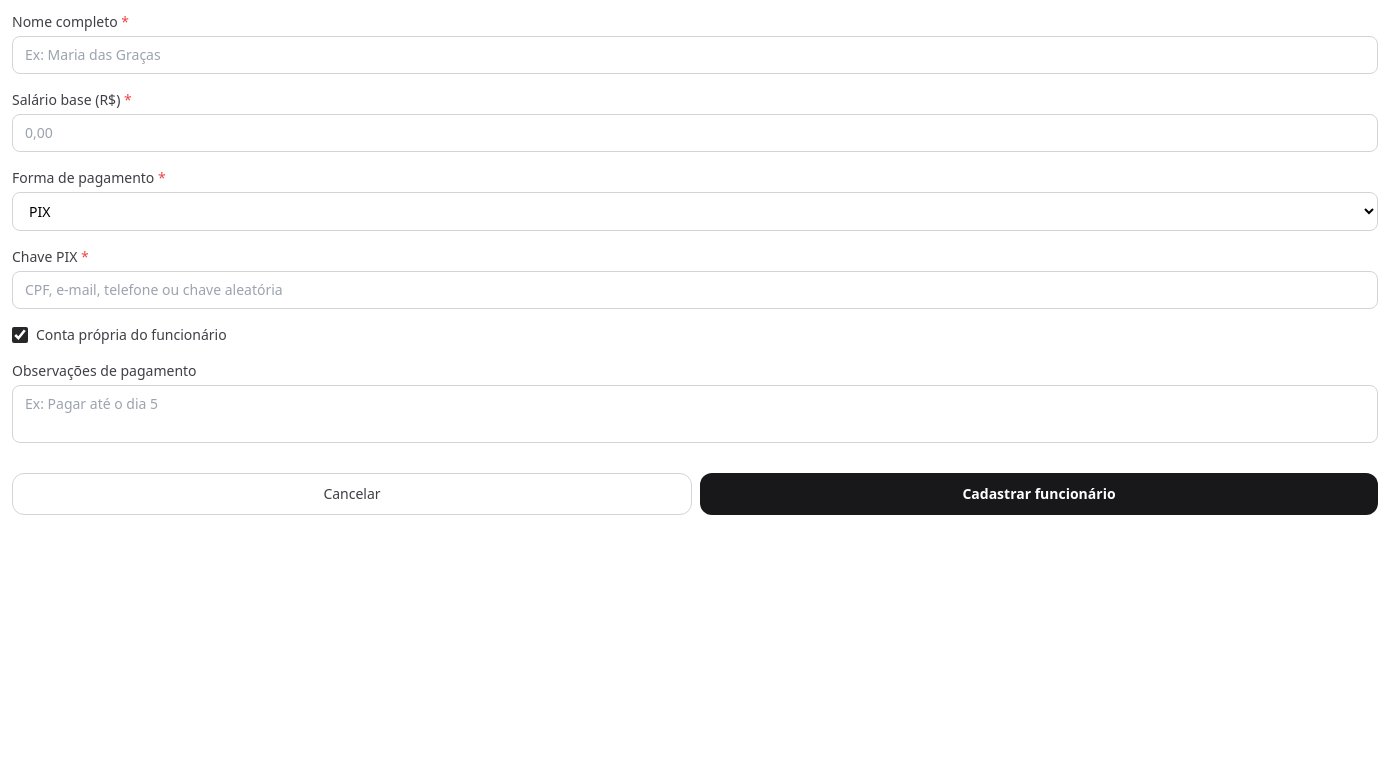
Test case: FuncionarioForm — campos condicionais por forma de pagamento › exibe campos TED (banco, agência, conta, tipo) quando forma=TED é selecionada
Select "TED (transferência bancária)" in the dropdown labelled "Forma de pagamento *" at {"x": 695, "y": 212}, box [12, 192, 1378, 231]
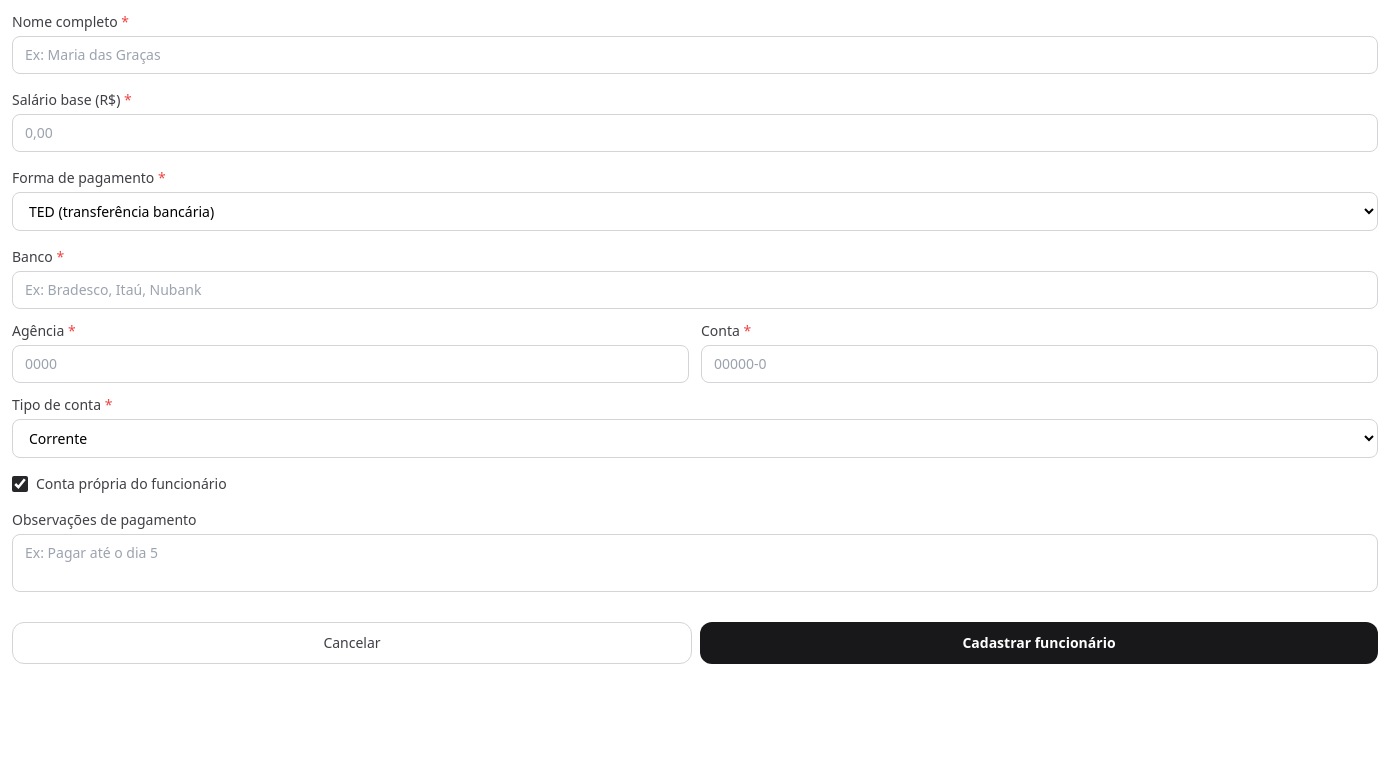
Result: the element with test id "campos-ted" is shown at [12, 247, 1378, 458]
Result: the element with test id "campos-pix" is gone
Result: the field labelled "Banco *" is shown at [12, 271, 1378, 309]
